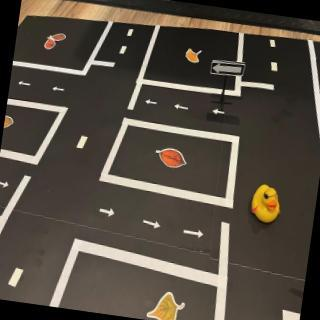duck_specialty: (247, 178, 286, 228)
road_oneway: (141, 217, 163, 233), (98, 204, 117, 221), (183, 228, 206, 242), (173, 101, 190, 113), (144, 97, 160, 109), (212, 105, 227, 117), (17, 79, 32, 89), (1, 177, 11, 191), (51, 85, 66, 94)
sign_oneway_left: (210, 60, 246, 80)
